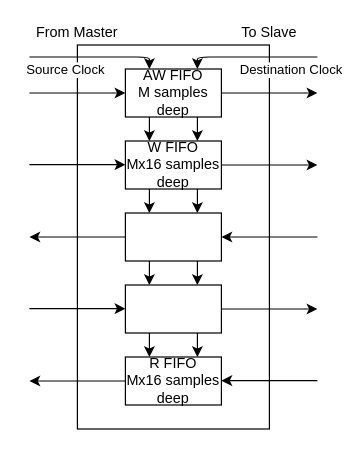
The diagram is 362 pixels wide and 450 high, and some of its shapes have lost their labels. The shapes that lost their labels are listed below. From the top down, each one's centre as x and y in pixels, then its label:
At pixel 172 236: "B FIFO M samples deep".
At pixel 172 308: "AR FIFO M samples deep".
